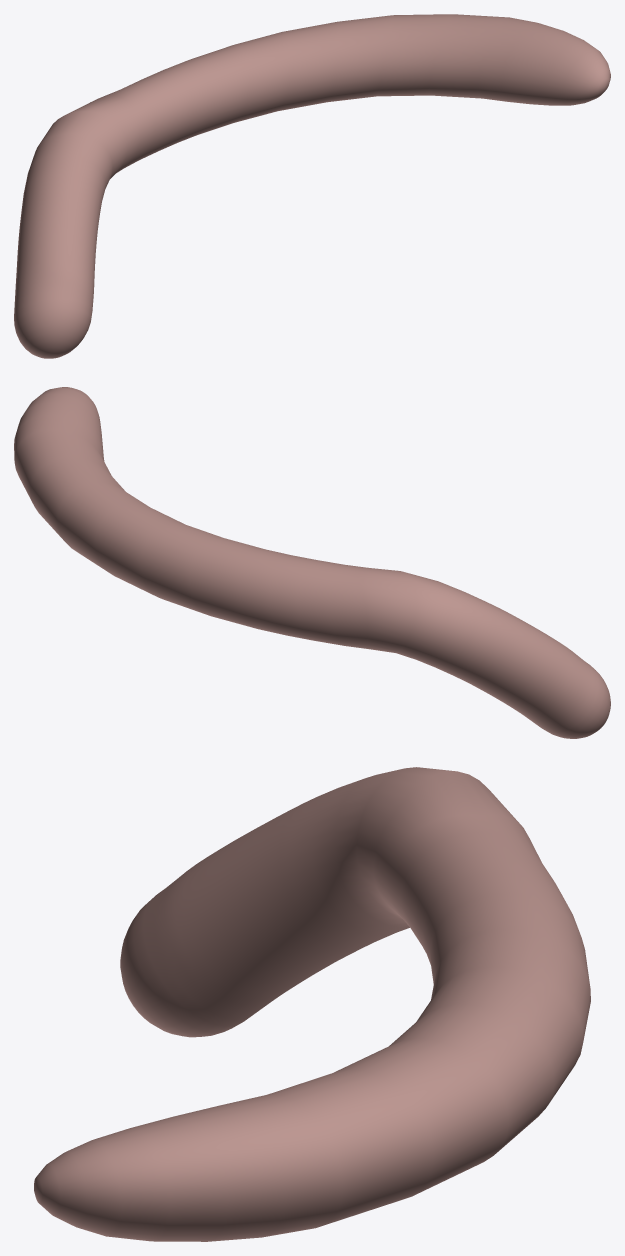
Rendered from Sausage1.glb.
3 renders of one model, top to bottom at view 1: azimuth 30°, elevation 25°; view 2: azimuth 150°, elevation 25°; view 3: azimuth 270°, elevation 25°, orthographic. The views are drawn at different scales.
Visible parts, largest first — view 1: Sphere.003; view 2: Sphere.003; view 3: Sphere.003.
Part boxes in pixels (x1,y1,x2,y2): Sphere.003: [14, 14, 610, 358]; Sphere.003: [14, 387, 610, 738]; Sphere.003: [34, 767, 590, 1241].
Bounding box in the file's own units: 16.76 × 5.62 × 7.13.
